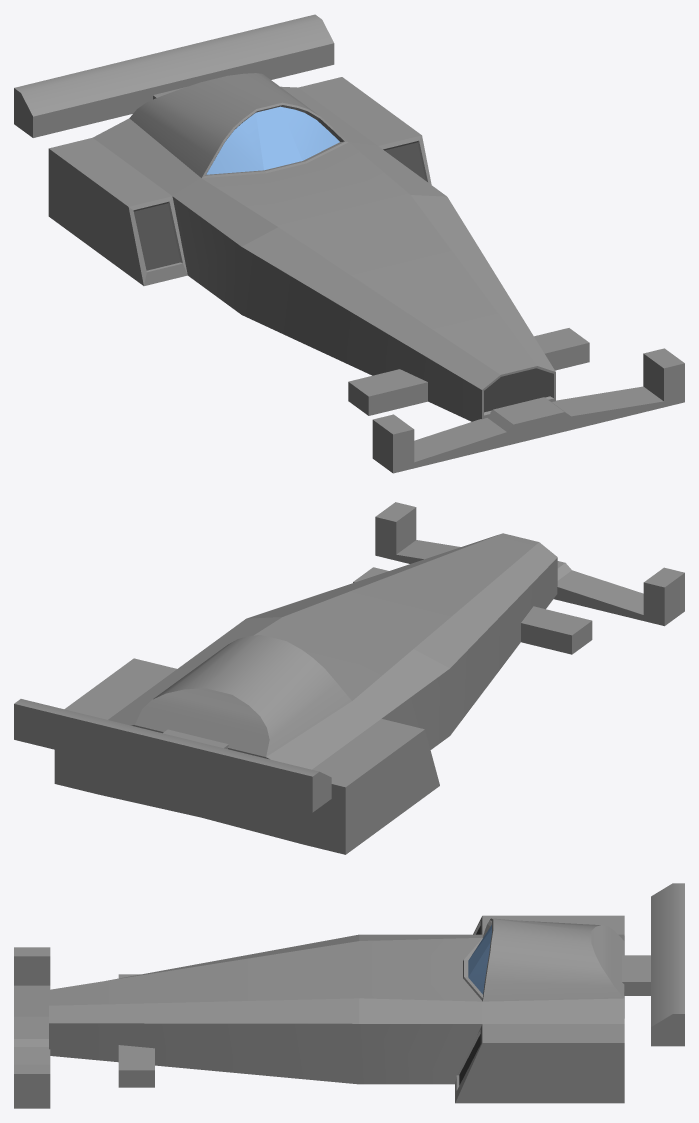
The model's file is car_5.FBX.
3 views of the same model, one above another, from view 1: azimuth 30°, elevation 25°; view 2: azimuth 150°, elevation 25°; view 3: azimuth 270°, elevation 25° (orthographic). The views are drawn at different scales.
Visible parts, largest first — view 1: car_5; view 2: car_5; view 3: car_5.
Boxes of the visible parts, <box> form: car_5: <box>14,14,684,473</box>; car_5: <box>14,502,684,854</box>; car_5: <box>14,883,684,1108</box>.
Size of the model in its own units: 3.09 by 1.32 by 6.7.
